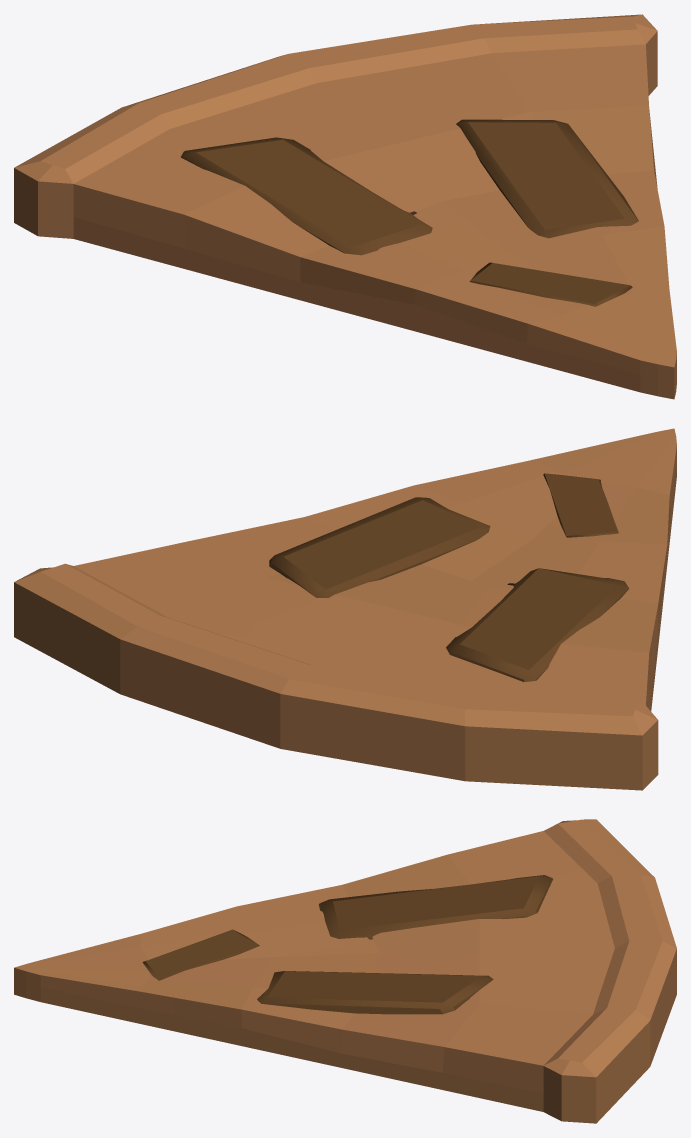
The model's file is BrownSlice.fbx.
The picture shows the model from 3 angles, top to bottom: view 1: azimuth 30°, elevation 25°; view 2: azimuth 150°, elevation 25°; view 3: azimuth 270°, elevation 25°; orthographic projection. The views are drawn at different scales.
Parts seen in each view (by area): view 1: Pizza_Slice; view 2: Pizza_Slice; view 3: Pizza_Slice.
Part boxes in pixels (left/top/right/bottom): Pizza_Slice: left=14, top=14, right=676, bottom=399; Pizza_Slice: left=14, top=428, right=676, bottom=790; Pizza_Slice: left=14, top=819, right=676, bottom=1123.
Size of the model in its own units: 107 by 10.36 by 116.
